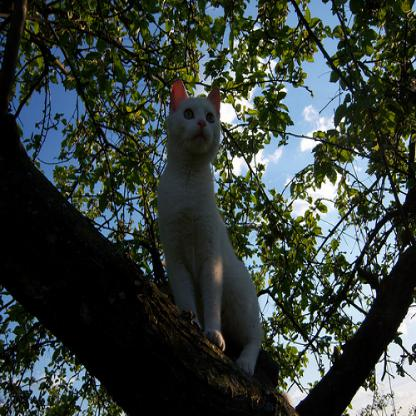cat: (155, 79, 264, 377)
